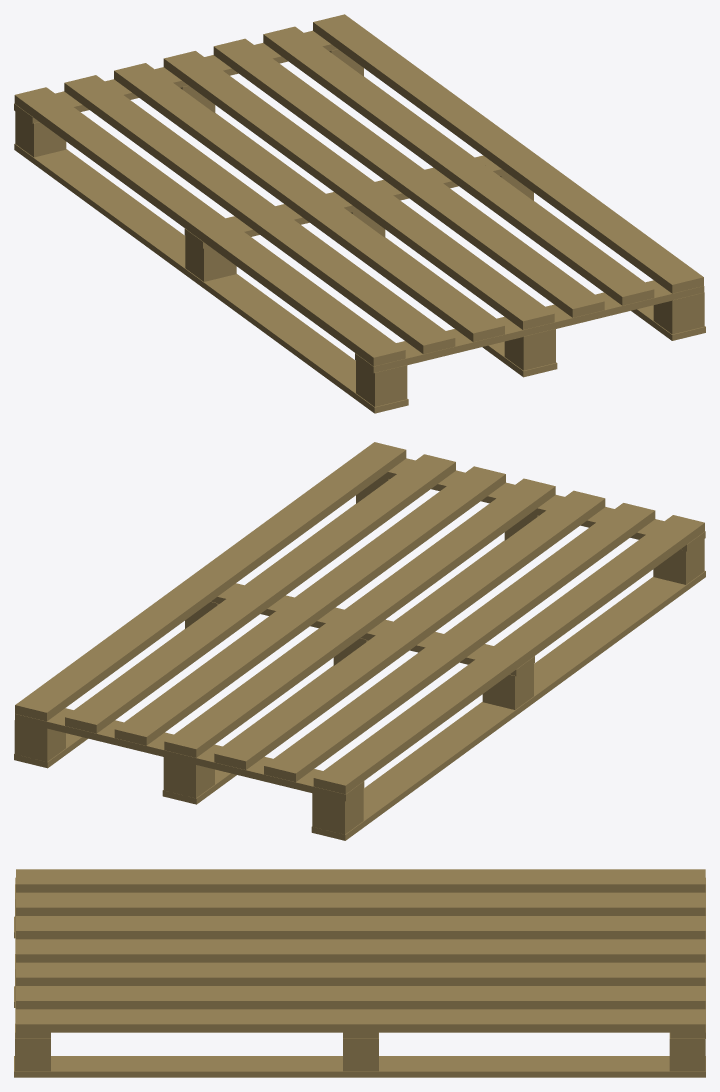
File: Pallete.fbx
3 renders of one model, top to bottom at view 1: azimuth 30°, elevation 25°; view 2: azimuth 150°, elevation 25°; view 3: azimuth 270°, elevation 25°, orthographic. The views are drawn at different scales.
Visible parts, largest first — view 1: Cube; view 2: Cube; view 3: Cube.
Part boxes in pixels (bbox=[...]): Cube: bbox=[14, 14, 705, 413]; Cube: bbox=[14, 442, 705, 840]; Cube: bbox=[14, 869, 705, 1077].
Size of what is drawn, in the model's own units: 616 by 97.85 by 1159.
